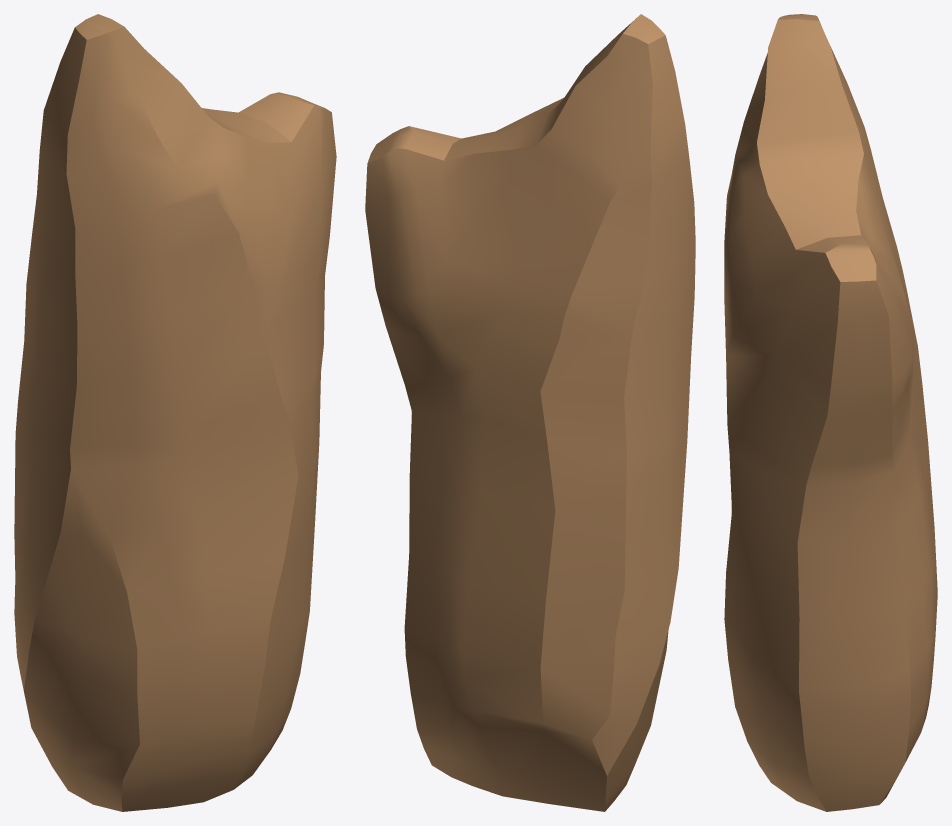
Rendered from rock4Temp.fbx.
The picture shows the model from 3 angles, left to right: view 1: azimuth 30°, elevation 25°; view 2: azimuth 150°, elevation 25°; view 3: azimuth 270°, elevation 25°; orthographic projection. The views are drawn at different scales.
Parts seen in each view (by area): view 1: rock4_low; view 2: rock4_low; view 3: rock4_low.
Boxes of the visible parts, <box> form: rock4_low: <box>14,14,336,811</box>; rock4_low: <box>365,14,695,811</box>; rock4_low: <box>724,14,937,811</box>.
Size of the model in its own units: 2.15 by 5.45 by 1.43.
